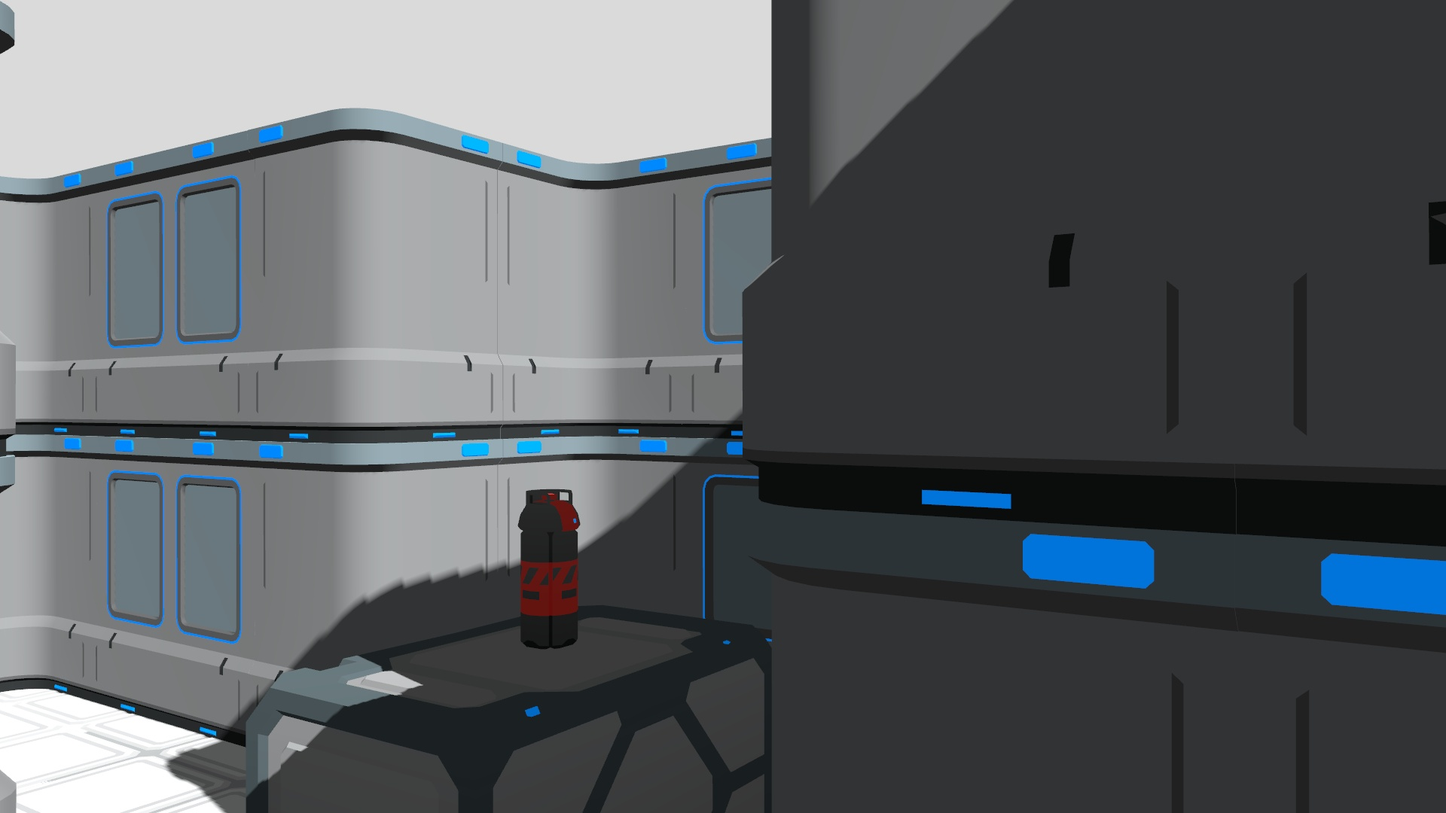red_barrel: (513, 482, 587, 654)
